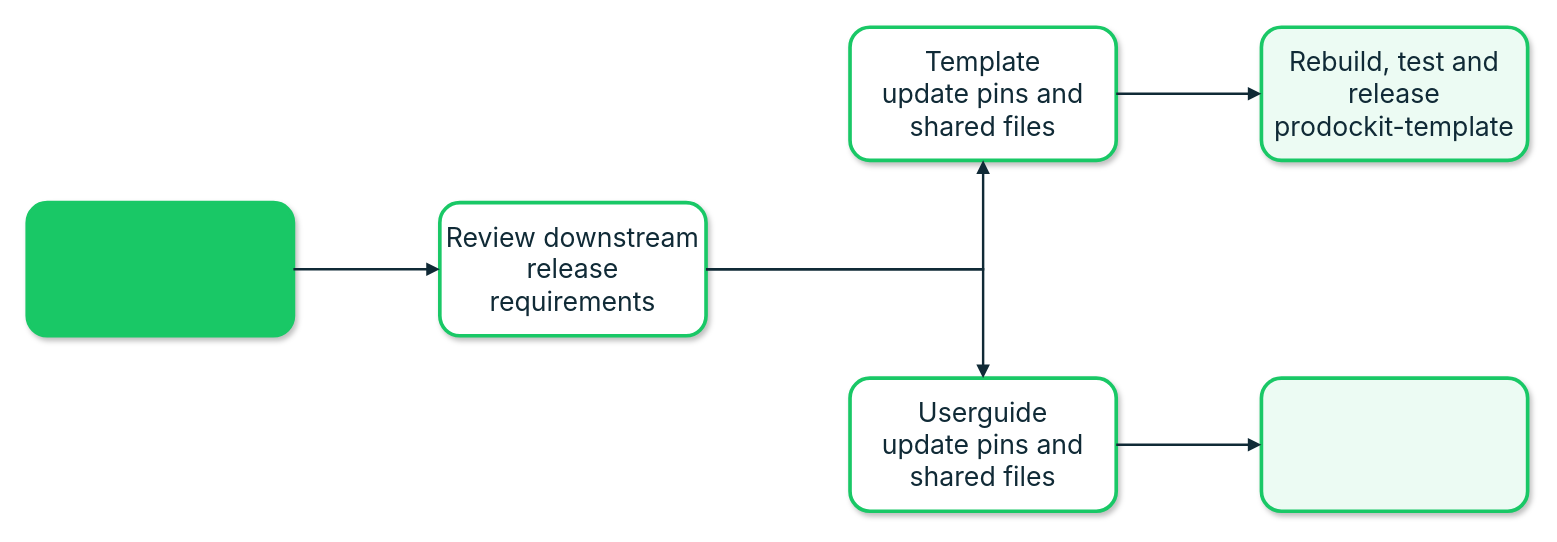
The diagram is 1557 pixels wide and 542 high, and some of its shapes have lost their labels. The centre of each missing label's shape, as x and y in pixels:
New prodockit release: (x=161, y=270)
Rebuild, test and release prodockit-userguide: (x=1395, y=446)
